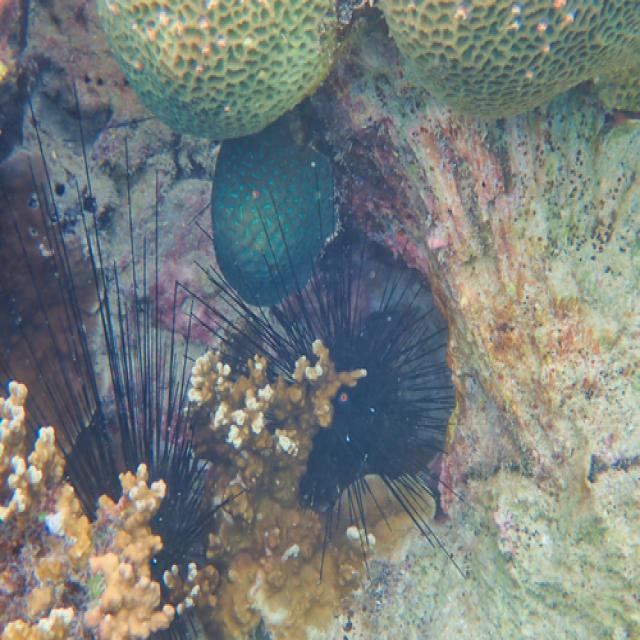Urchin: (2, 80, 245, 633), (174, 157, 479, 580)
